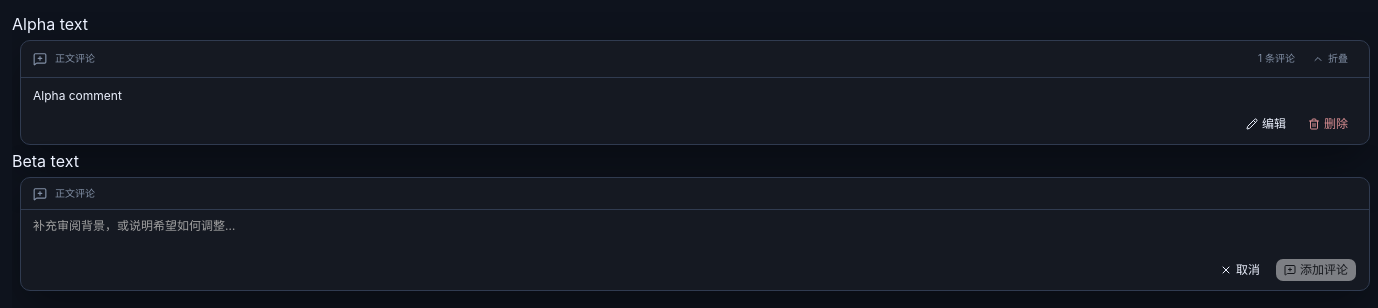
Test: DocumentReviewAnnotations › keeps an expanded comment open after a different comment is submitted
The image size is (1378, 308).
Expected: the button "Alpha text" is shown, [12,14,88,34]
Expected: the text "Alpha comment" is shown, [33,88,122,103]
In the text box with placeholder "补充审阅背景，或说明希望如何调整…": (695, 234) [33,218,1357,250], type "Beta comment"
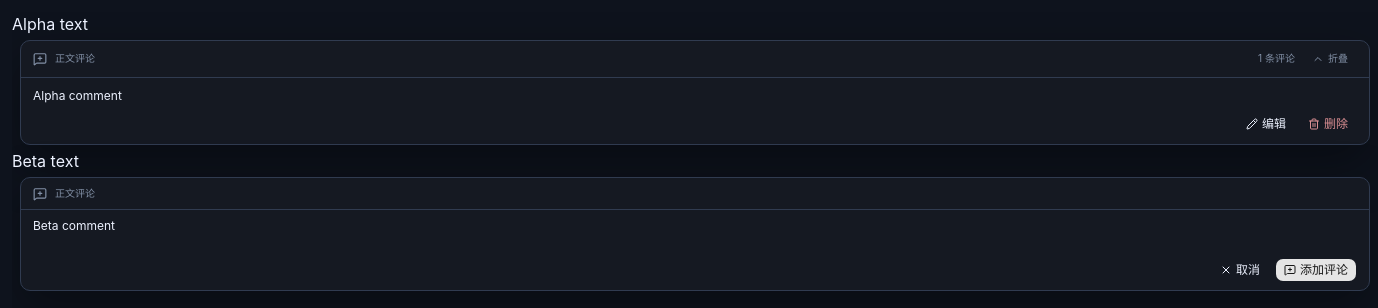
Click the button "添加评论": (1316, 270) [1275,258,1357,282]
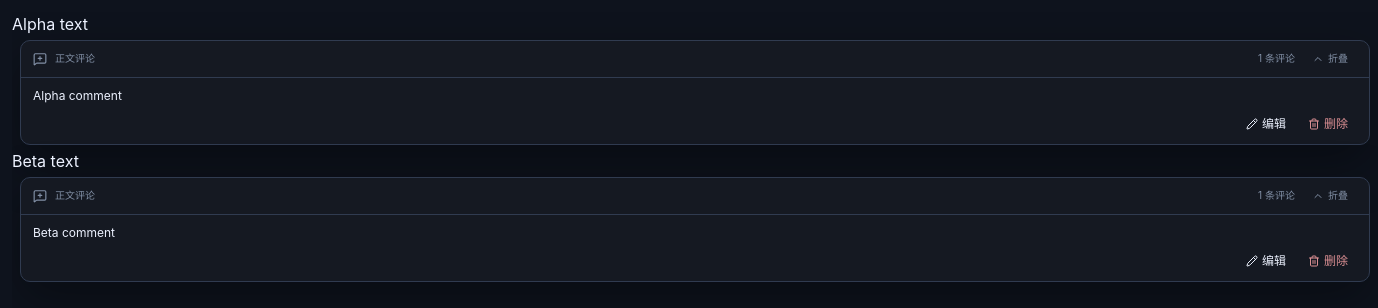
Expected: the text "Alpha comment" is shown, [33,88,122,103]
Now the text "Beta comment" is shown, box [33,225,115,240]
Now the number of buttons "折叠" is 2, box [1303,47,1357,71]; [1303,184,1357,208]
